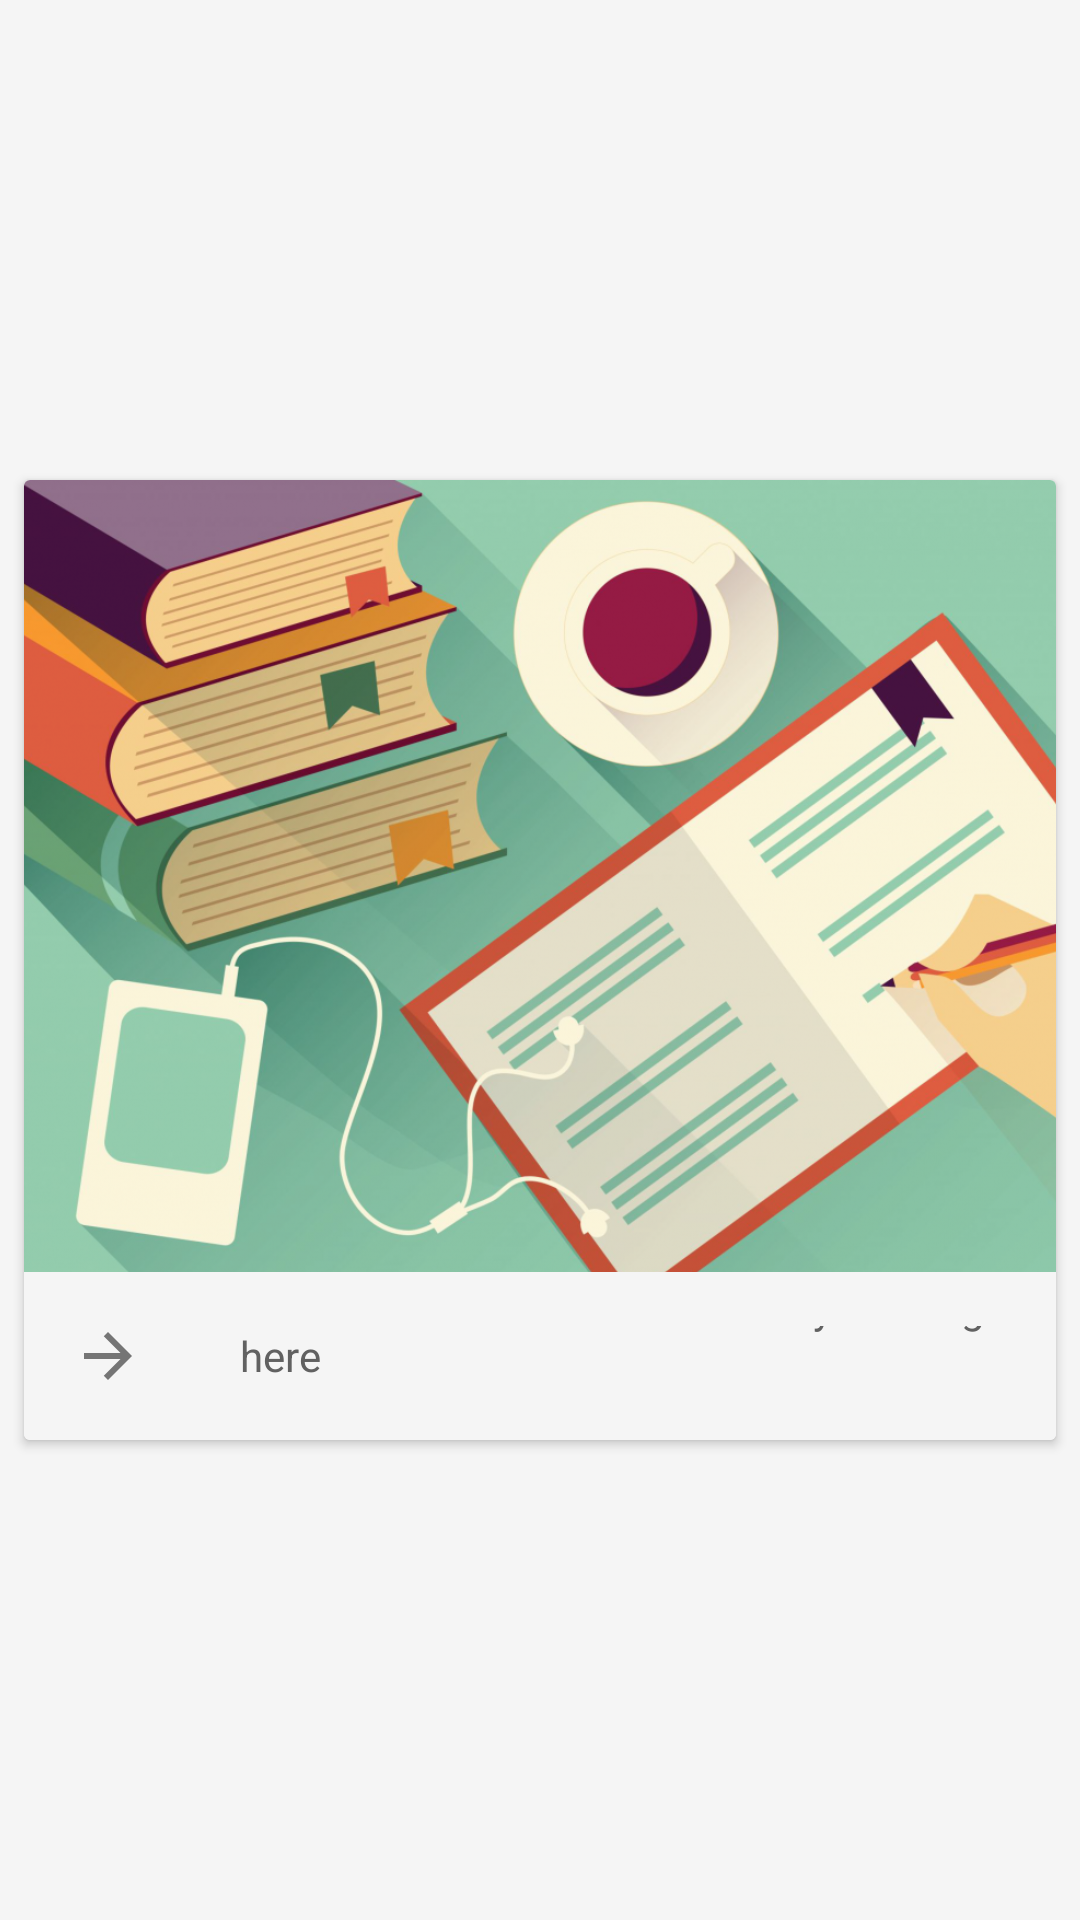

Point at icon controls on the screen. Image size 1080px x 1920px, points as point (x, y).
forward: point (108, 1356)
